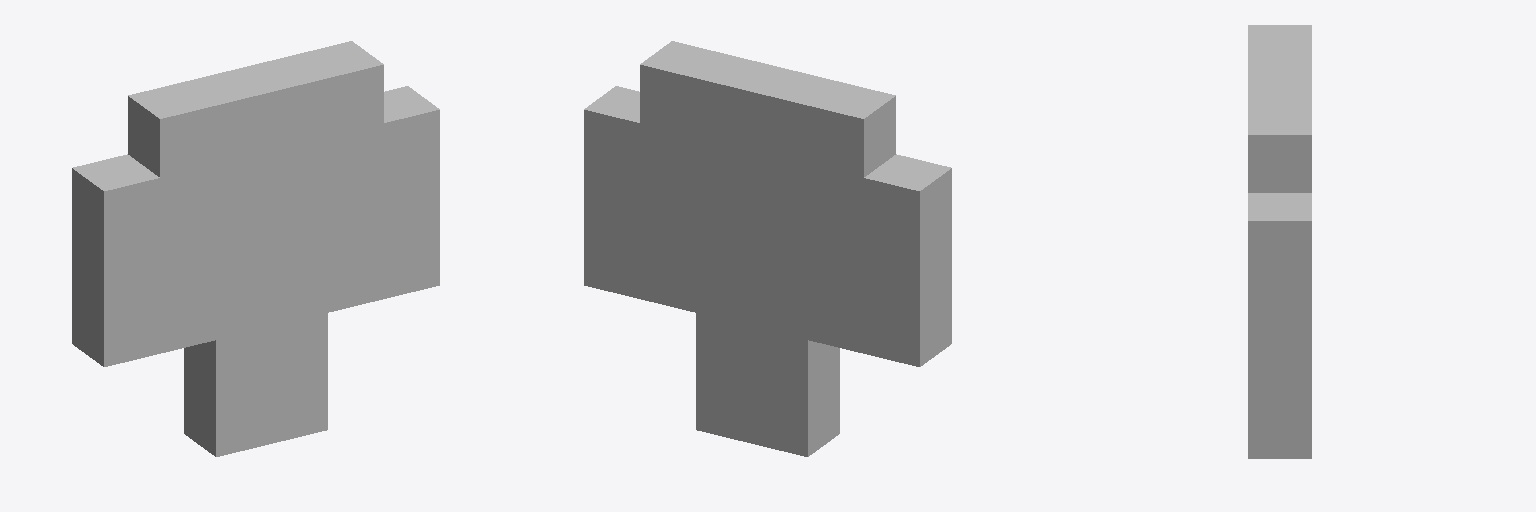
The model's file is Mushroom.obj.
3 views of the same model, side by side, from view 1: azimuth 30°, elevation 25°; view 2: azimuth 150°, elevation 25°; view 3: azimuth 270°, elevation 25° (orthographic).
Visible parts, largest first — view 1: Mushroom; view 2: Mushroom; view 3: Mushroom.
Boxes of the visible parts, box(x1,y1,x2,y2) form: Mushroom: box(72, 41, 439, 456); Mushroom: box(584, 41, 951, 456); Mushroom: box(1248, 25, 1311, 458).
Bounding box in the file's own units: 6 × 6 × 1.